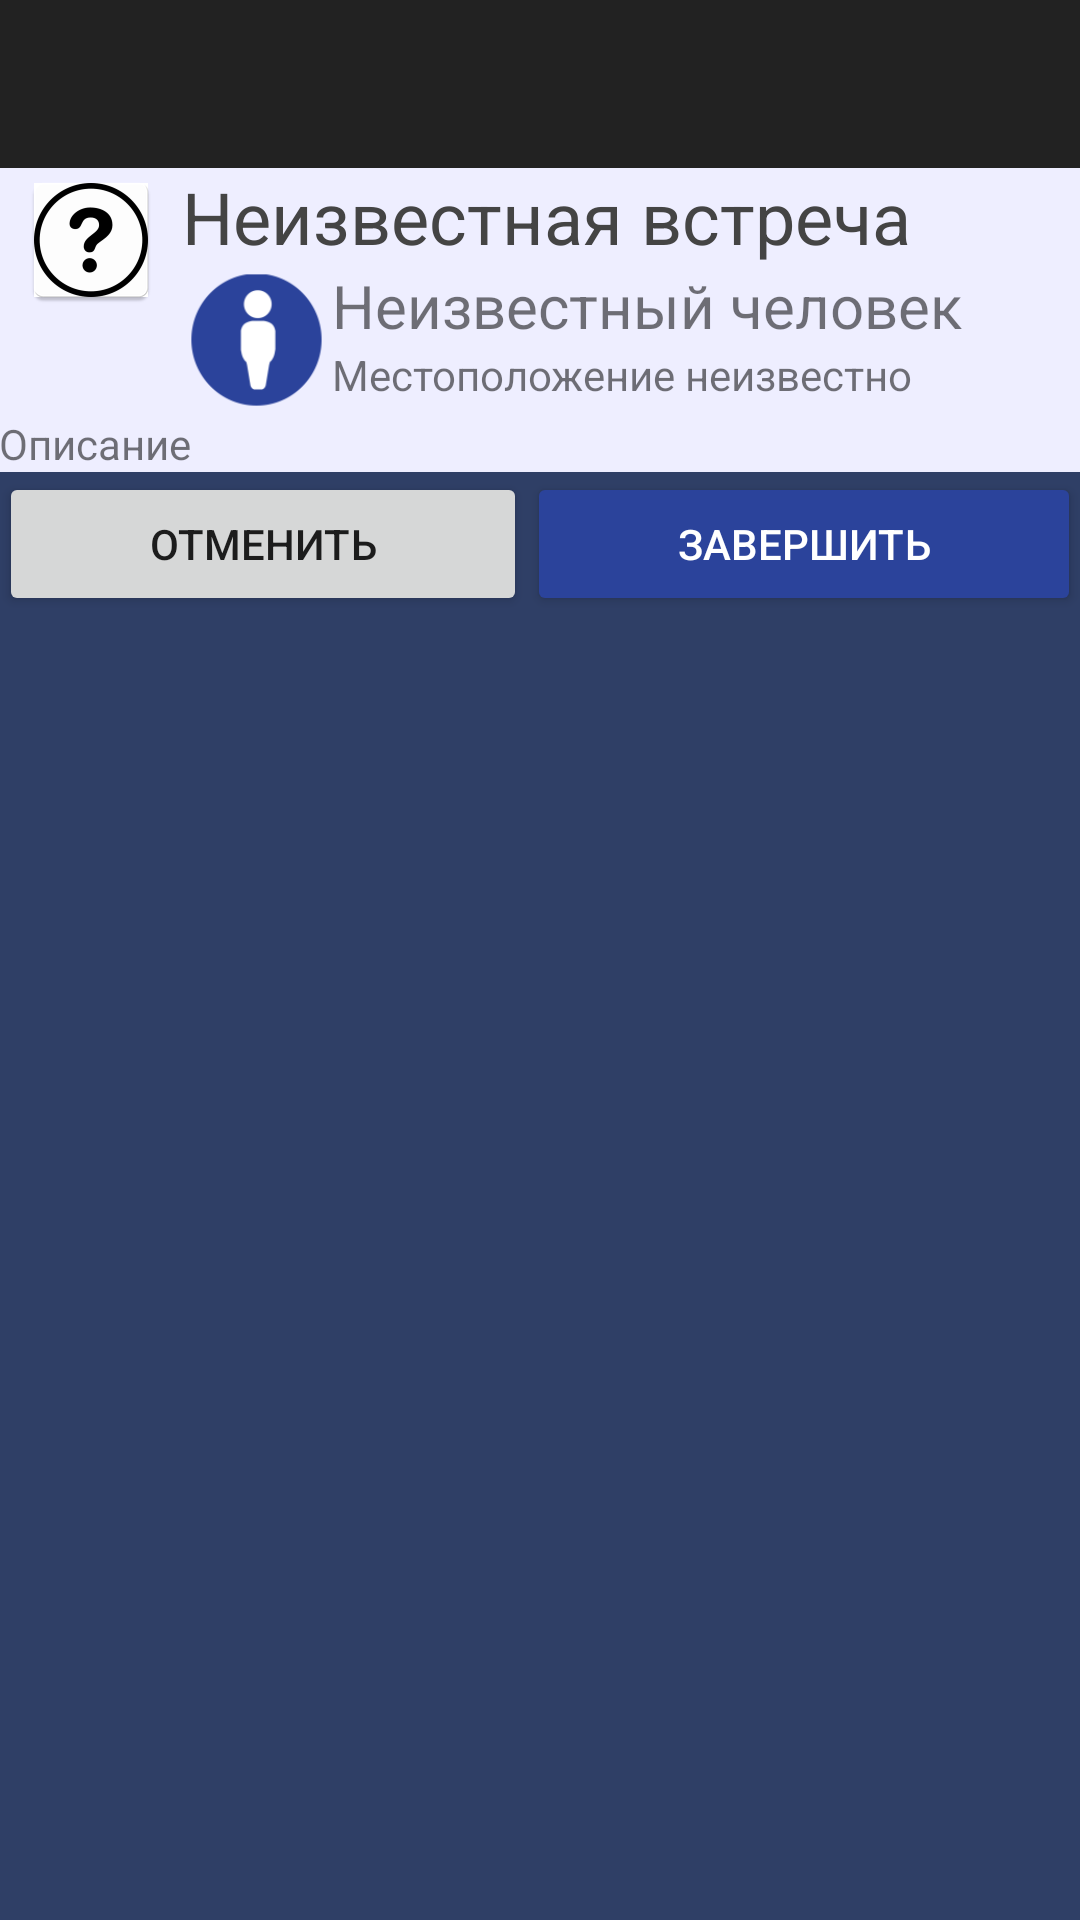

Icons on this 1080×1920 Android screen, each with the point to tap as (x=x, y=y):
people: (x=256, y=340)
unknown: (x=91, y=242)
